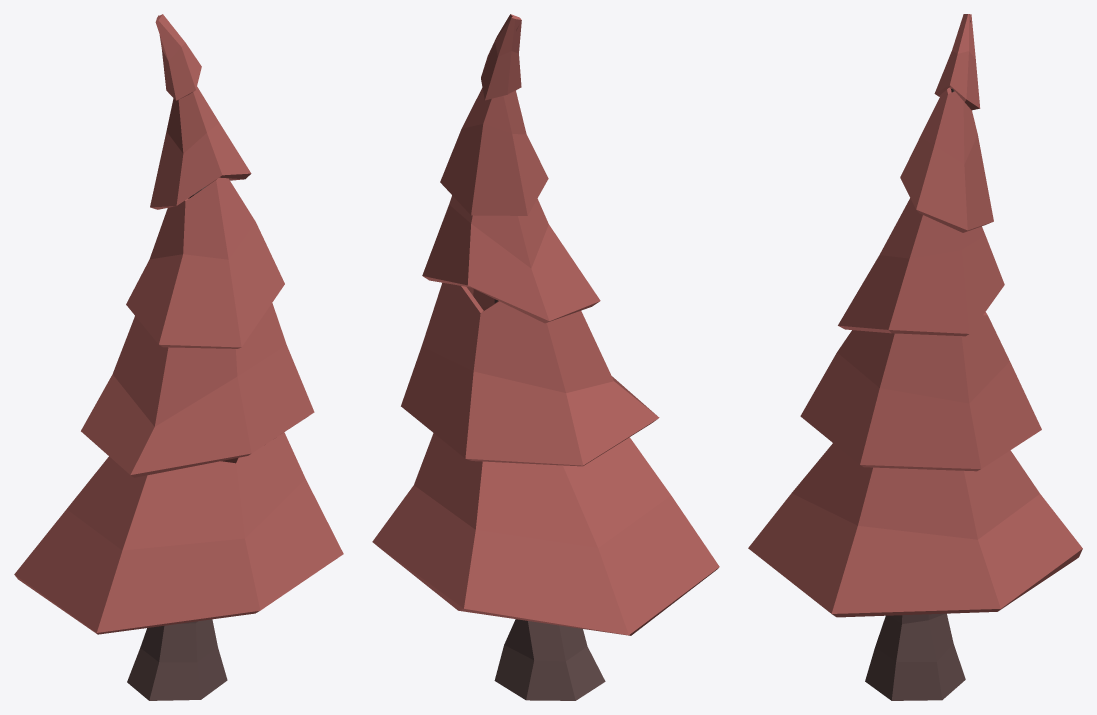
File: Tree_Pine9.fbx
3 views of the same model, side by side, from view 1: azimuth 30°, elevation 25°; view 2: azimuth 150°, elevation 25°; view 3: azimuth 270°, elevation 25° (orthographic). The views are drawn at different scales.
Visible parts, largest first — view 1: Cylinder.015; view 2: Cylinder.015; view 3: Cylinder.015.
Boxes of the visible parts, <box> form: Cylinder.015: <box>14,14,343,700</box>; Cylinder.015: <box>372,14,719,700</box>; Cylinder.015: <box>748,14,1082,700</box>.
Size of the model in its own units: 273 by 681 by 307.
